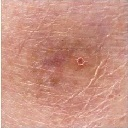Melanoma: (61, 46, 100, 79)
